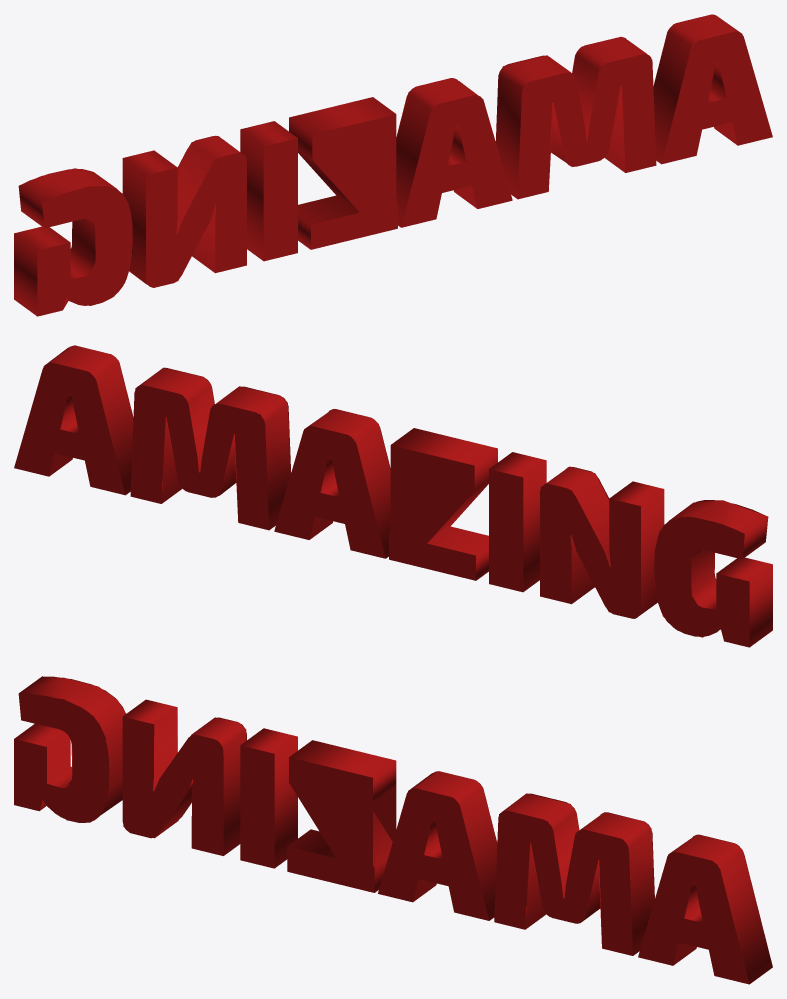
Rendered from amazing.fbx.
3 renders of one model, top to bottom at view 1: azimuth 30°, elevation 25°; view 2: azimuth 150°, elevation 25°; view 3: azimuth 330°, elevation 25°, orthographic.
Parts seen in each view (by area): view 1: Text; view 2: Text; view 3: Text.
Boxes of the visible parts, x1,y1,x2,y2 form: Text: (14, 14, 772, 316); Text: (14, 345, 772, 647); Text: (14, 676, 772, 984).
Size of the model in its own units: 14.48 by 2.27 by 0.8.
